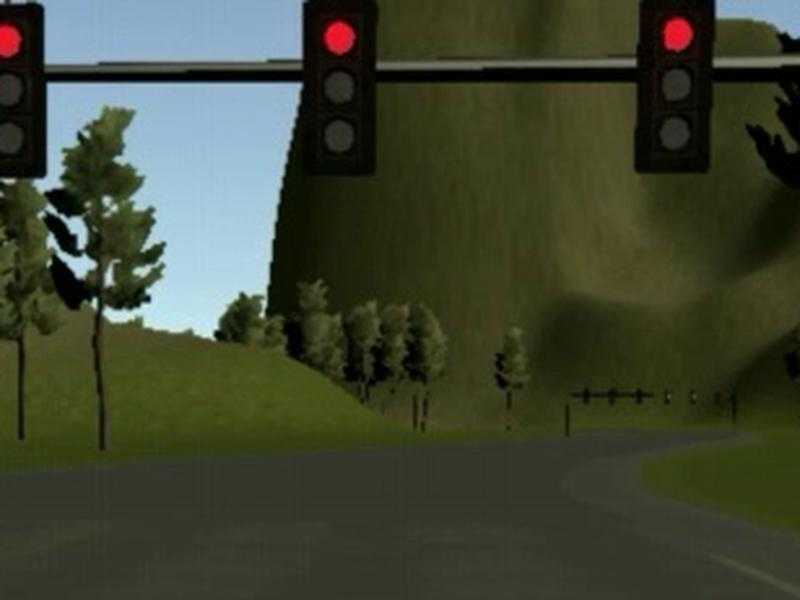Red: (635, 1, 718, 173), (304, 1, 375, 177), (1, 3, 46, 178)
